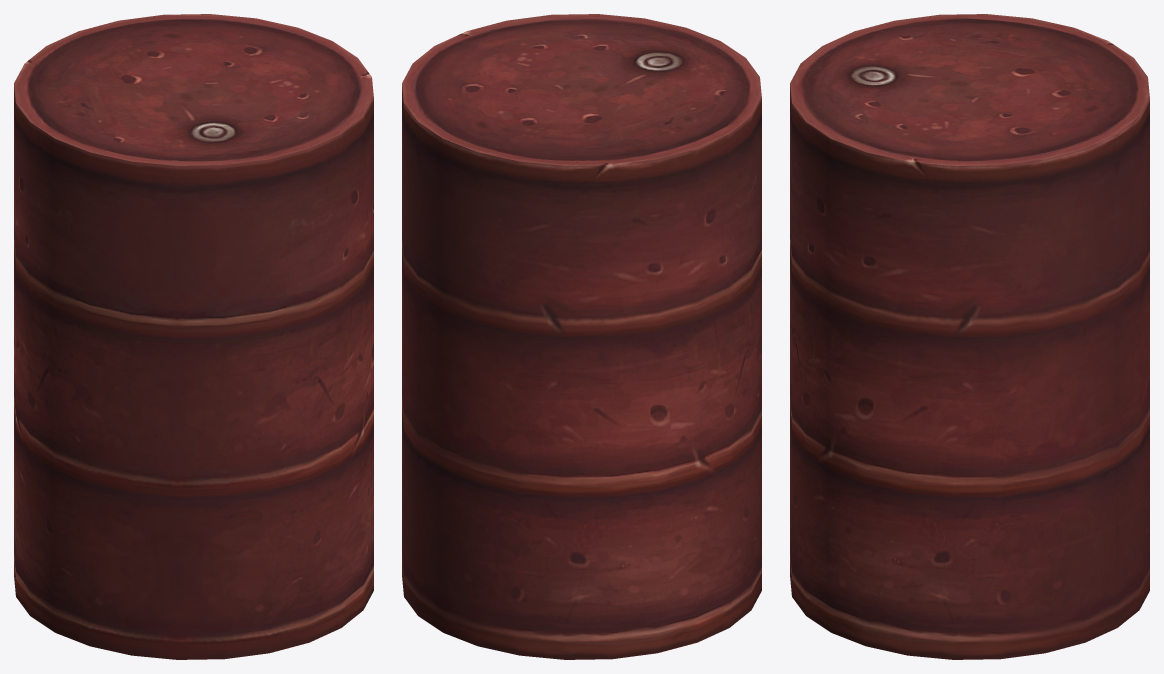
File: Metal Barrel straight 96 tris.fbx
3 renders of one model, left to right at view 1: azimuth 30°, elevation 25°; view 2: azimuth 150°, elevation 25°; view 3: azimuth 270°, elevation 25°, orthographic.
Parts seen in each view (by area): view 1: Metal Barrel straight 96 tris; view 2: Metal Barrel straight 96 tris; view 3: Metal Barrel straight 96 tris.
Part boxes in pixels (left/top/right/bottom): Metal Barrel straight 96 tris: left=14, top=14, right=373, bottom=659; Metal Barrel straight 96 tris: left=402, top=14, right=761, bottom=659; Metal Barrel straight 96 tris: left=790, top=14, right=1149, bottom=659.
Size of the model in its own units: 388 by 587 by 388.
